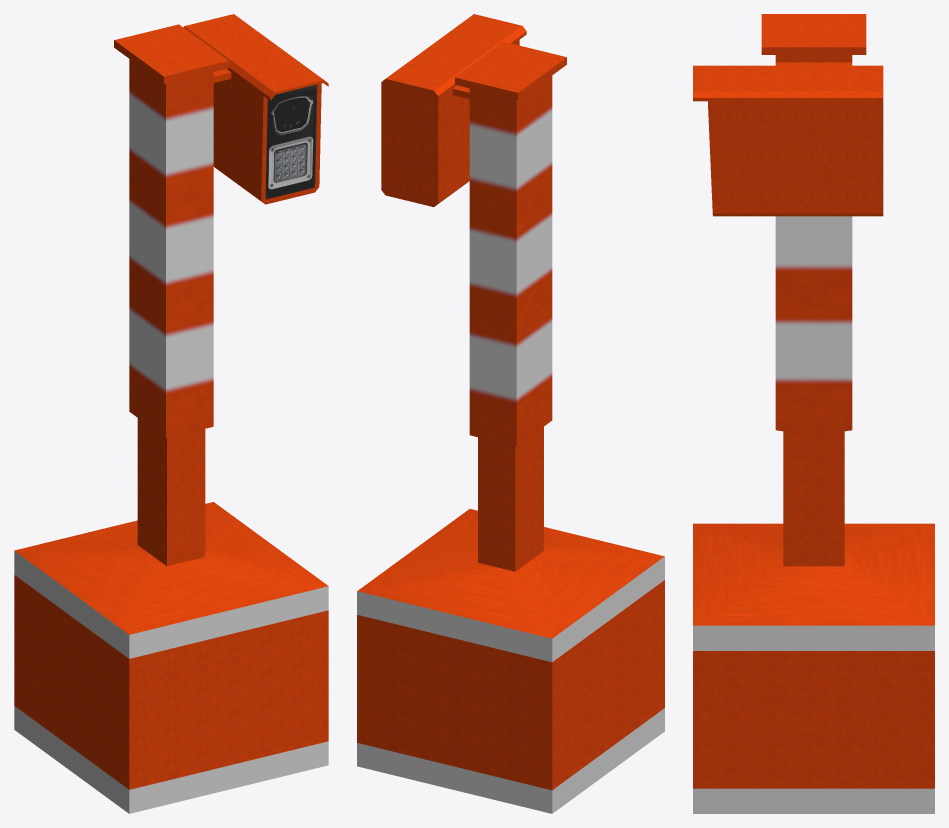
The model's file is speedCam.fbx.
3 views of the same model, side by side, from view 1: azimuth 30°, elevation 25°; view 2: azimuth 150°, elevation 25°; view 3: azimuth 270°, elevation 25° (orthographic). The views are drawn at different scales.
Visible parts, largest first — view 1: speedCamera; view 2: speedCamera; view 3: speedCamera.
Part boxes in pixels (x1=…): speedCamera: x1=14, y1=14, x2=328, y2=813; speedCamera: x1=357, y1=14, x2=664, y2=813; speedCamera: x1=693, y1=14, x2=934, y2=813.
Size of the model in its own units: 70 by 234 by 70.
Materials: 1 (1 with a texture image).
